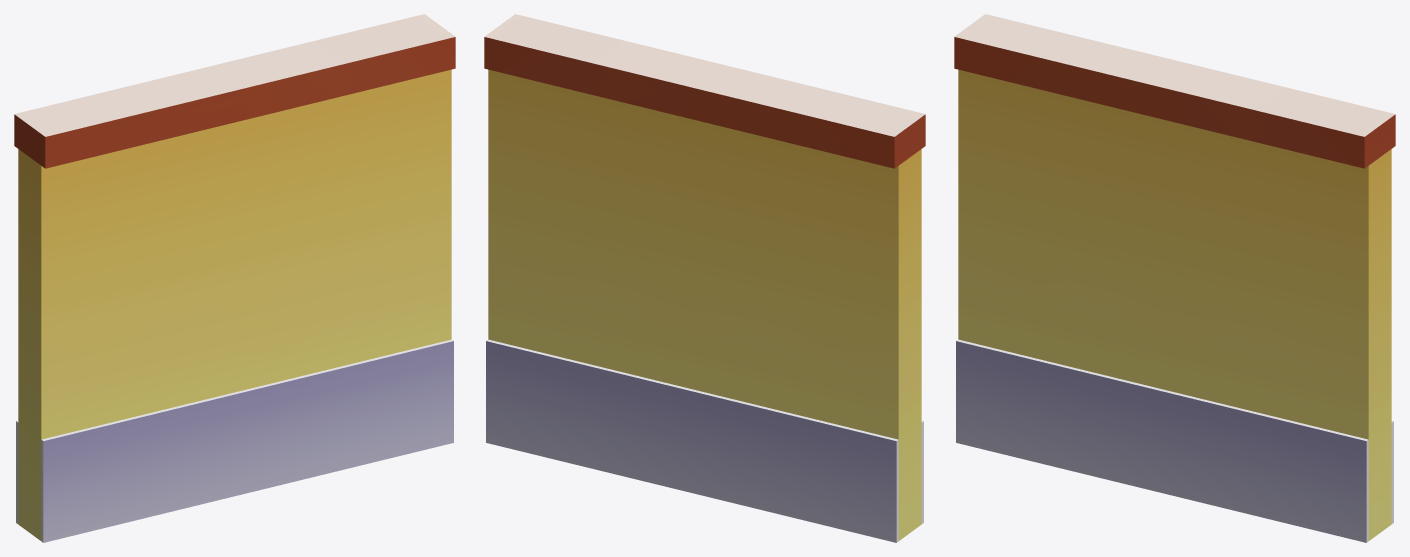
The model's file is M1_Wall_01_2.fbx.
3 views of the same model, side by side, from view 1: azimuth 30°, elevation 25°; view 2: azimuth 150°, elevation 25°; view 3: azimuth 330°, elevation 25° (orthographic).
Visible parts, largest first — view 1: M1_Wall_01_2; view 2: M1_Wall_01_2; view 3: M1_Wall_01_2.
Part boxes in pixels (x1,y1,x2,y2): M1_Wall_01_2: [14, 14, 455, 542]; M1_Wall_01_2: [484, 14, 925, 542]; M1_Wall_01_2: [954, 14, 1395, 542].
Bounding box in the file's own units: 400 × 380 × 52.74.
